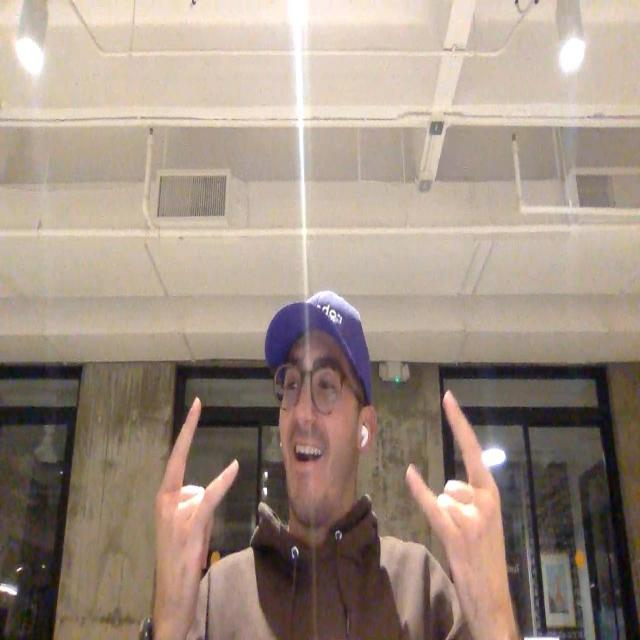face: (278, 347, 362, 527)
